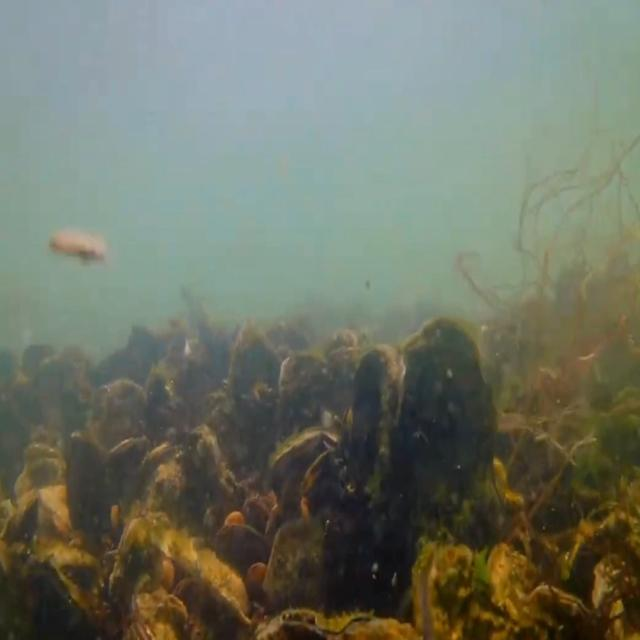Oyster-Closed: (108, 514, 170, 640), (1, 492, 40, 551)
Oyster-Indeterminate: (400, 315, 493, 508), (344, 345, 407, 505), (264, 516, 330, 632), (67, 430, 117, 537), (195, 547, 249, 618), (186, 425, 225, 523)
Oyster-Open: (266, 426, 343, 523), (135, 441, 185, 506), (19, 442, 67, 483)
